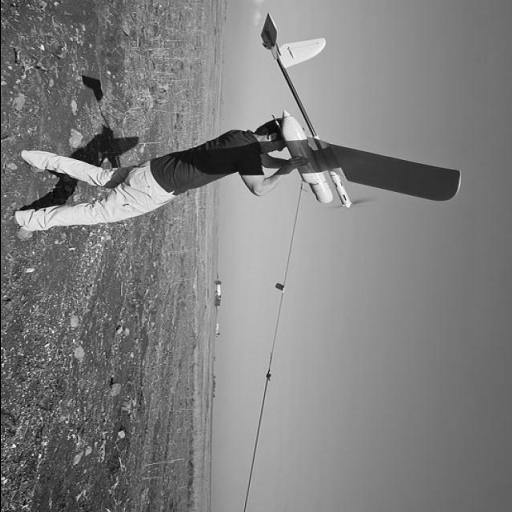uav: (257, 11, 461, 215)
